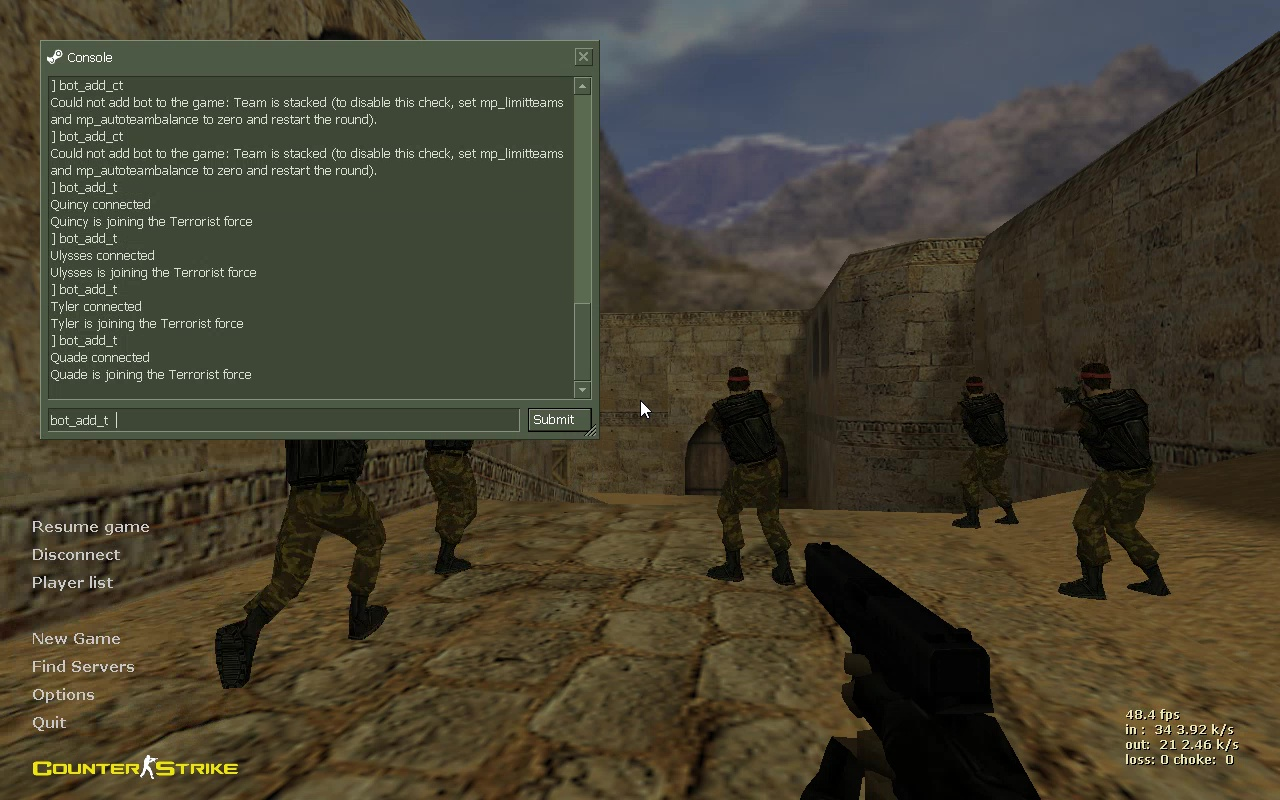terr1: (1052, 365, 1170, 600), (702, 368, 798, 588), (947, 377, 1016, 530)
